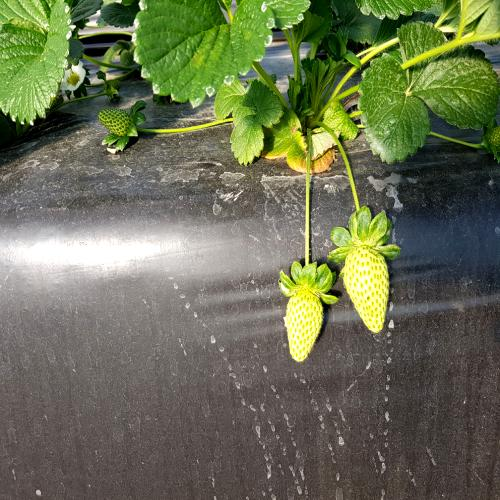unripe: (342, 242, 394, 332), (283, 283, 327, 362)
